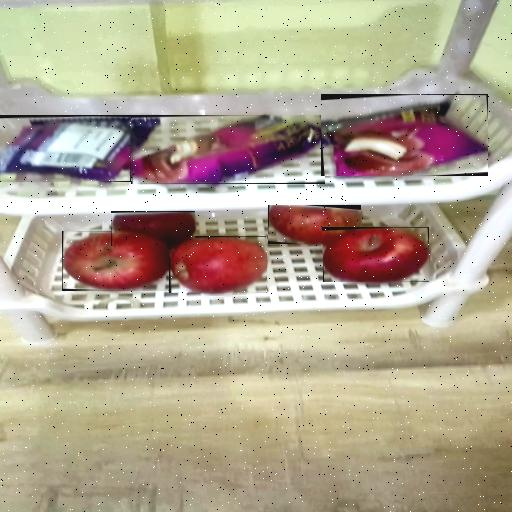Apple: (63, 232, 169, 290), (324, 228, 429, 282), (170, 237, 266, 293), (269, 205, 360, 244), (112, 213, 195, 246)
Choco Pie: (321, 95, 488, 176), (133, 115, 325, 184), (0, 118, 159, 181)
